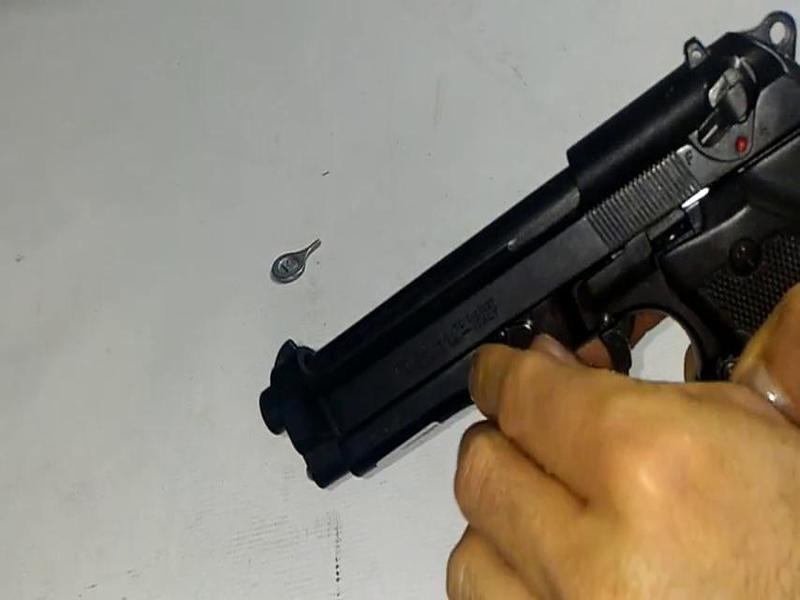Pistola: (221, 14, 800, 515)
